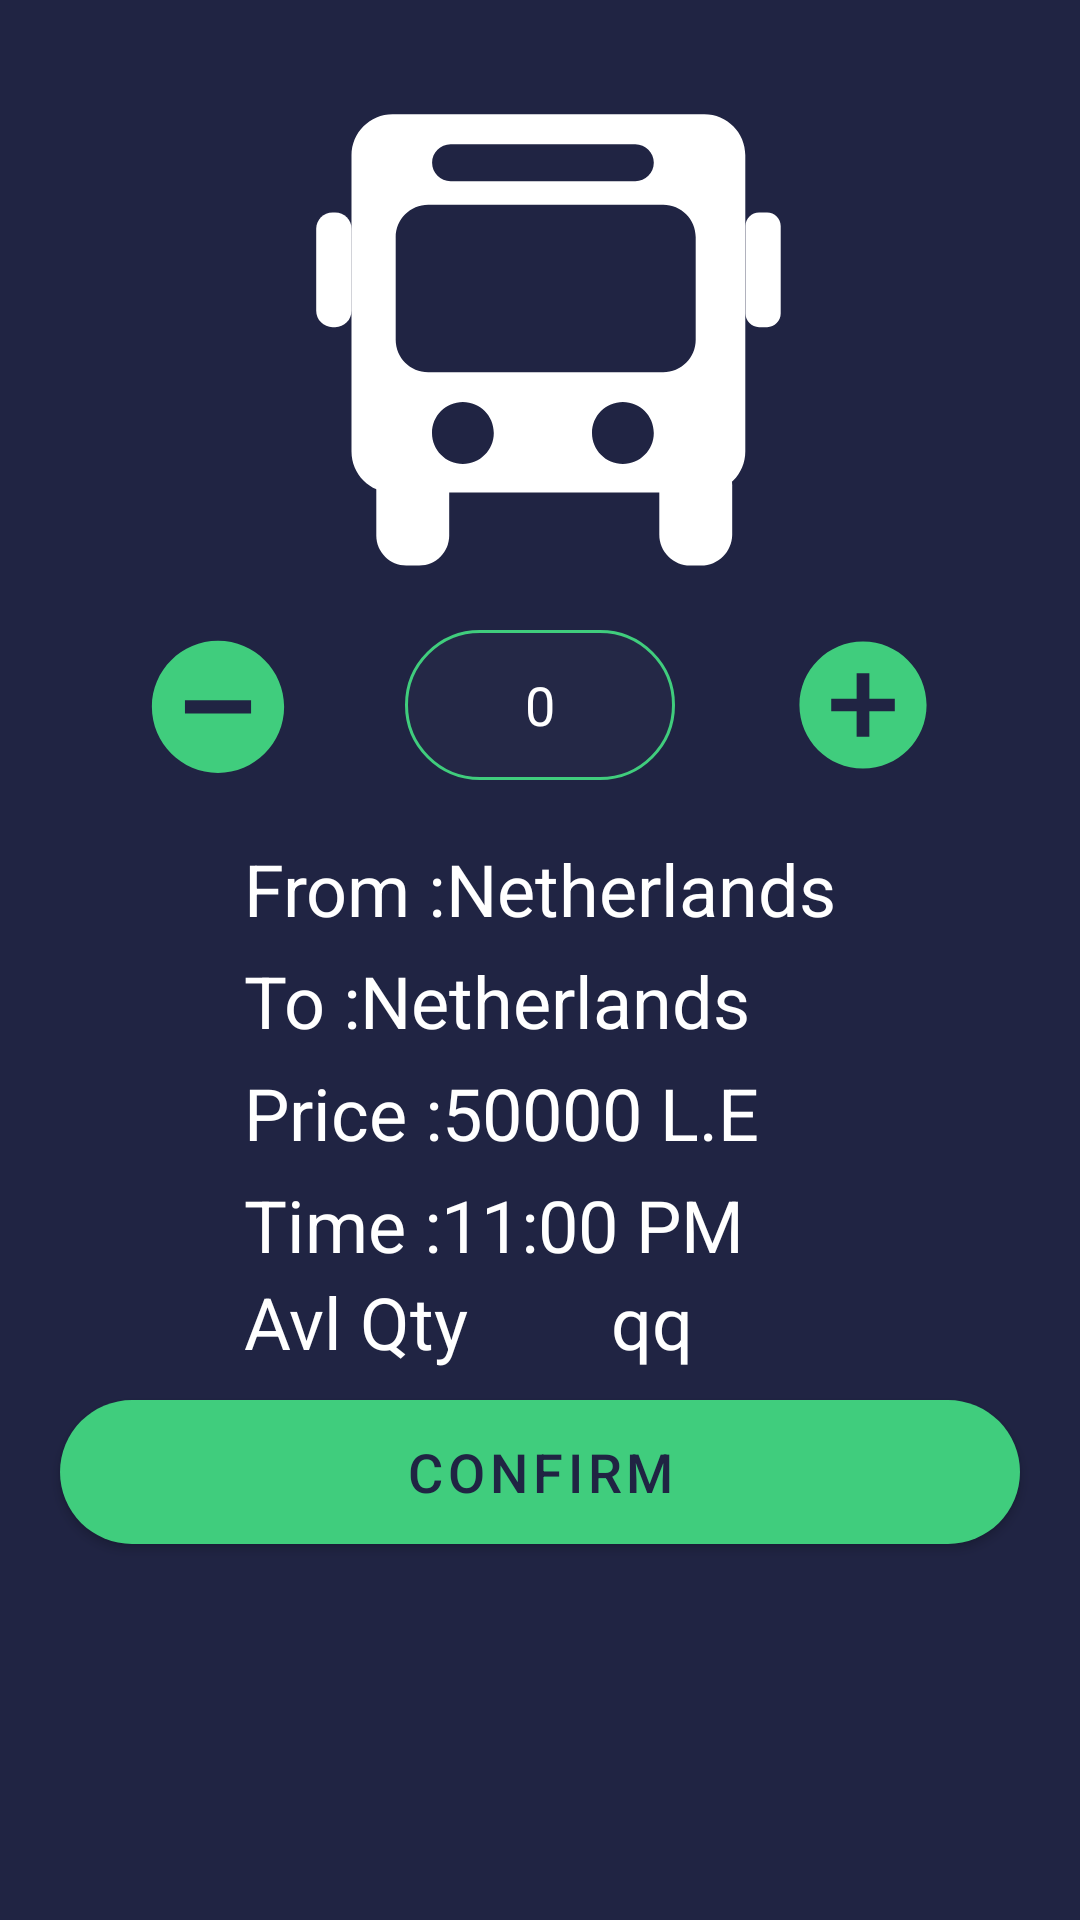

Icon bounding boxes for this 1080px x 1920px phone screenshot, format (x1, y1, x2, y2):
add to cart: (799, 641, 927, 769)
